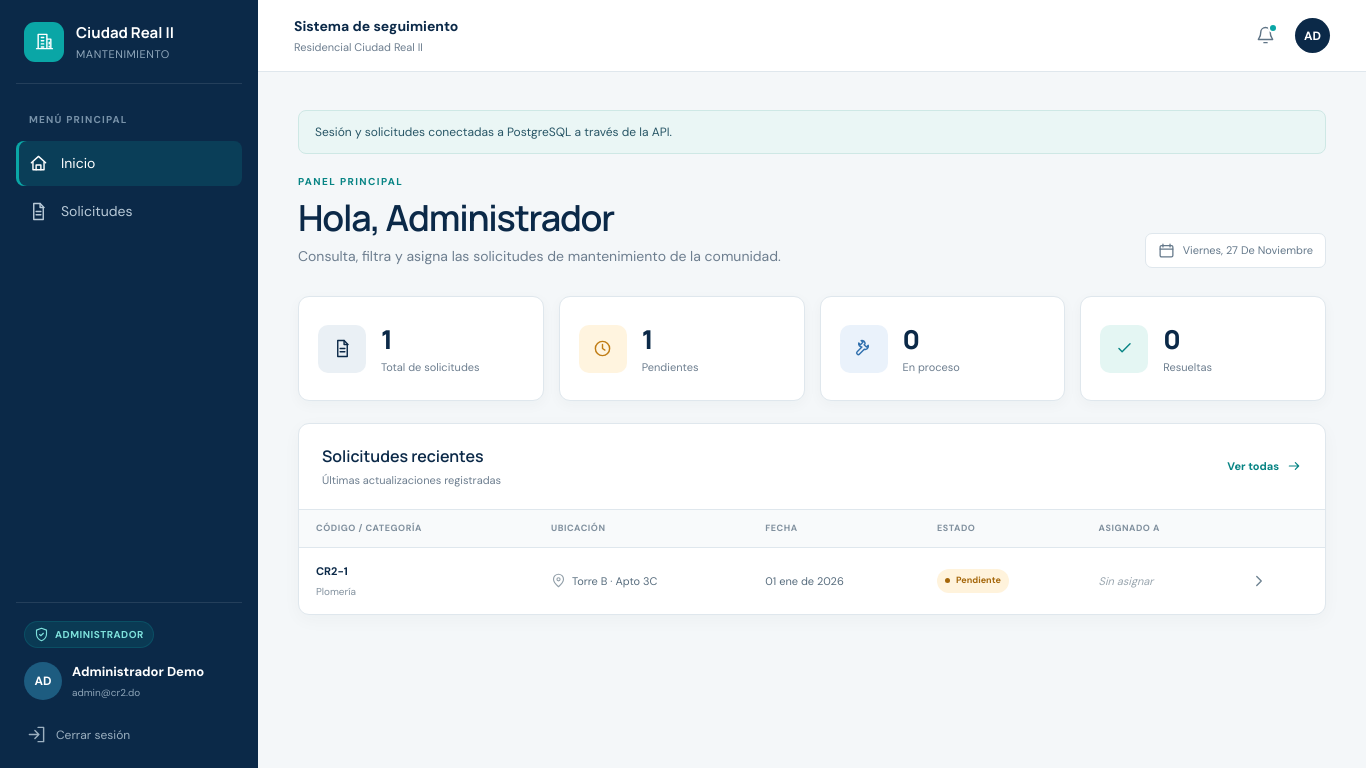
un 401 al cargar técnicos invalida la sesión sin usar una lista ficticia
The image size is (1366, 768).
What coordinates should you click on to do the following:
click the button named "Ver CR2-1"
I would click on:
 (1259, 581)
Its box is x1=1244 y1=566 x2=1274 y2=596.
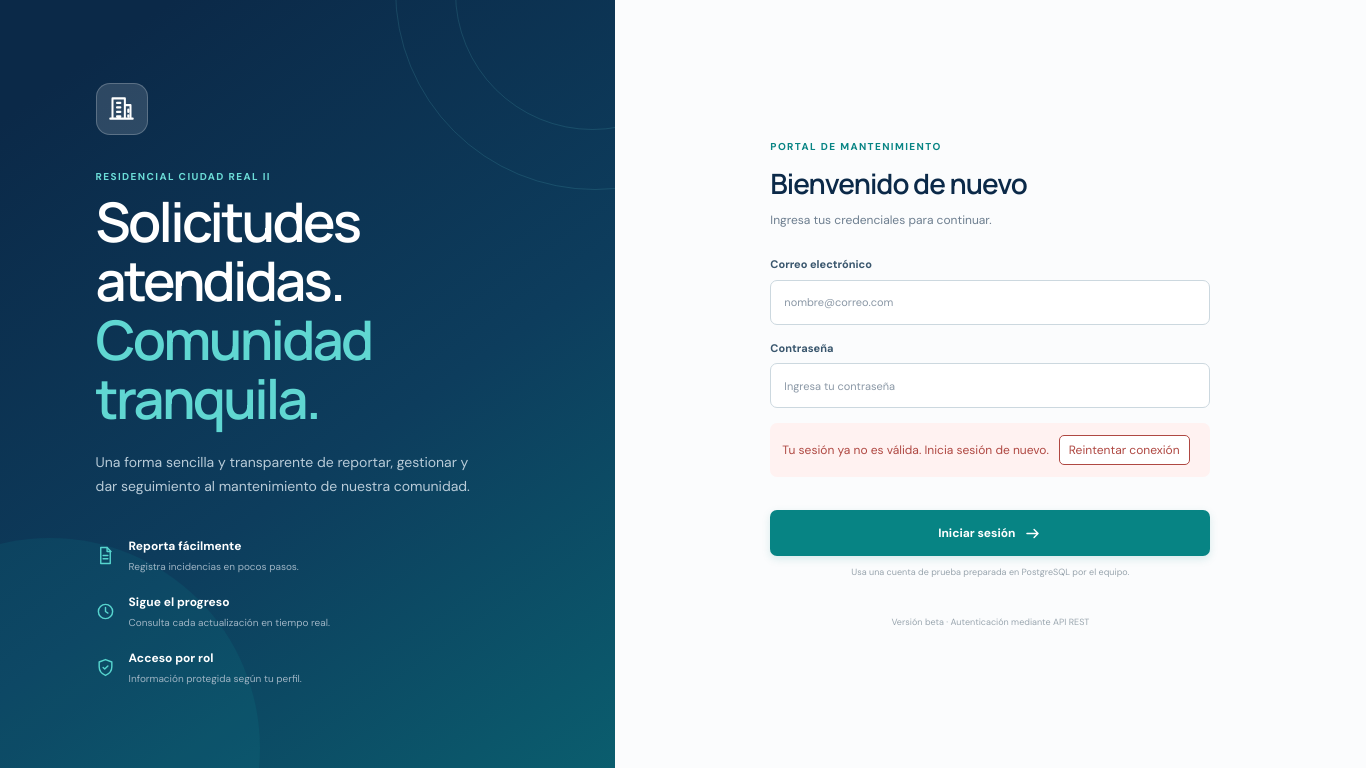
Check: the button "Iniciar sesión" is shown, box x1=770 y1=510 x2=1210 y2=556
Check: the message shows "Tu sesión ya no es válida", box x1=782 y1=442 x2=1049 y2=458
